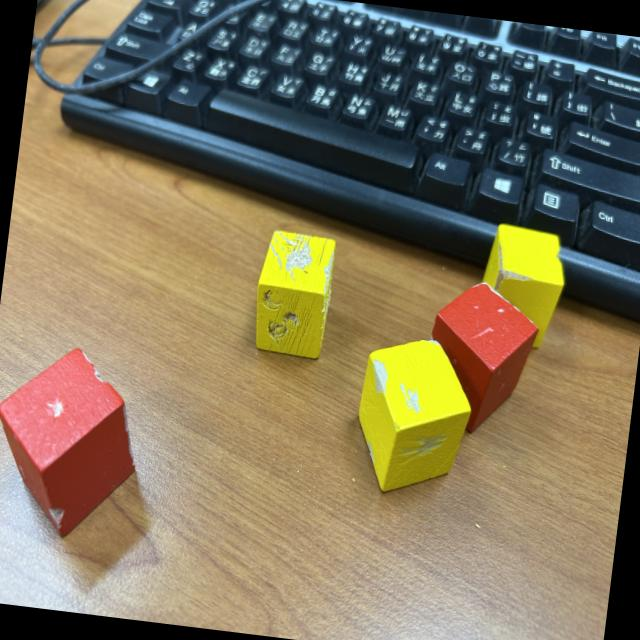broken: (0, 338, 149, 546), (348, 330, 480, 502), (418, 276, 542, 440), (472, 222, 570, 352), (248, 228, 339, 360)
